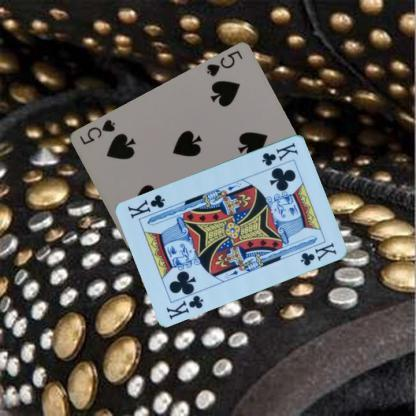5s: (203, 48, 244, 78)
Kc: (164, 292, 205, 321), (259, 140, 300, 167)
